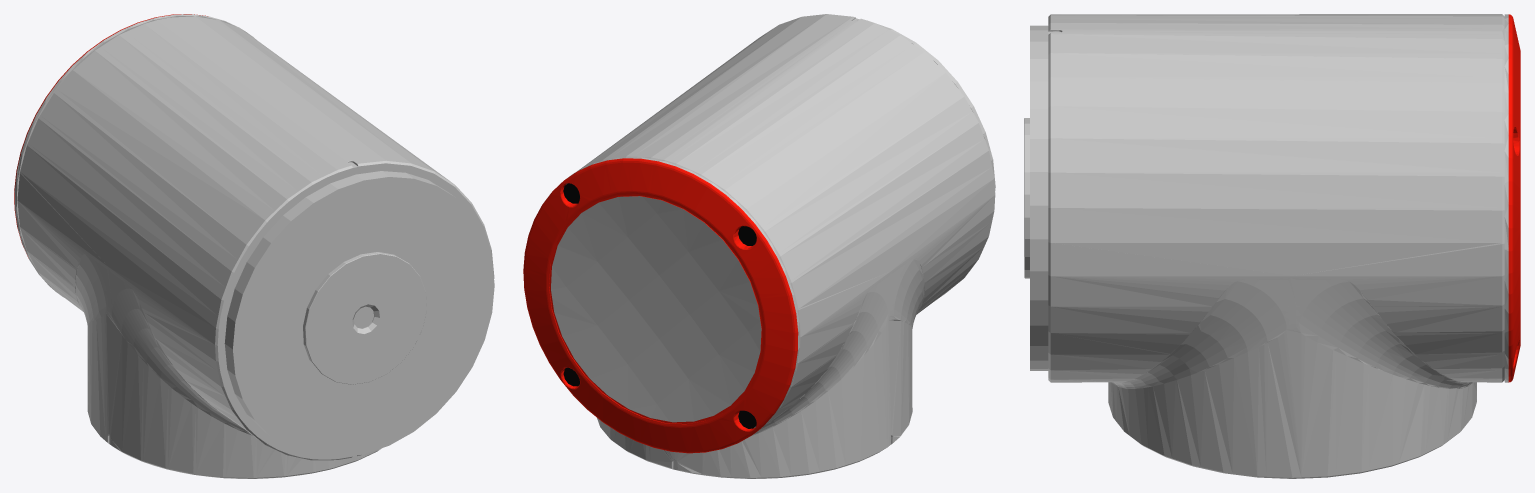
The model's file is wrist1_link.obj.
The picture shows the model from 3 angles, left to right: view 1: azimuth 30°, elevation 25°; view 2: azimuth 150°, elevation 25°; view 3: azimuth 270°, elevation 25°; orthographic projection. The views are drawn at different scales.
Visible parts, largest first — view 1: wrist1_link; view 2: wrist1_link; view 3: wrist1_link.
Part boxes in pixels (box(x1,y1,x2,y2)): wrist1_link: box(14, 14, 494, 478); wrist1_link: box(523, 14, 995, 478); wrist1_link: box(1024, 14, 1520, 478).
Bounding box in the file's own units: 0.08 × 0.0888 × 0.1077.
